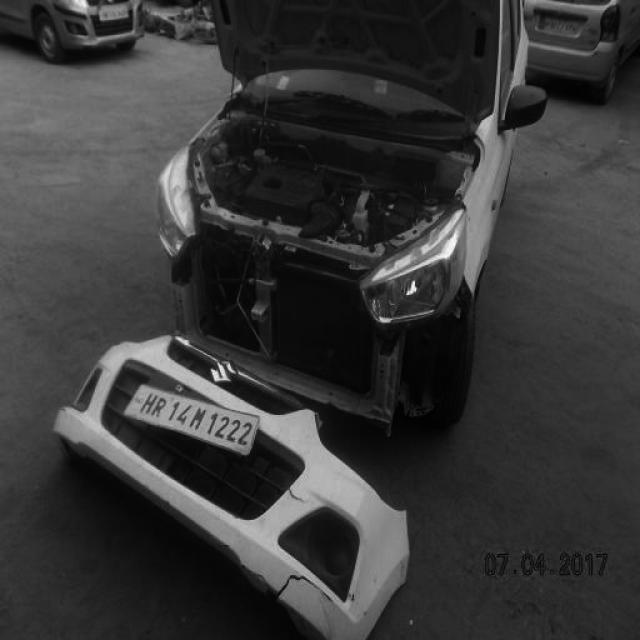car damage: (167, 222, 467, 421)
